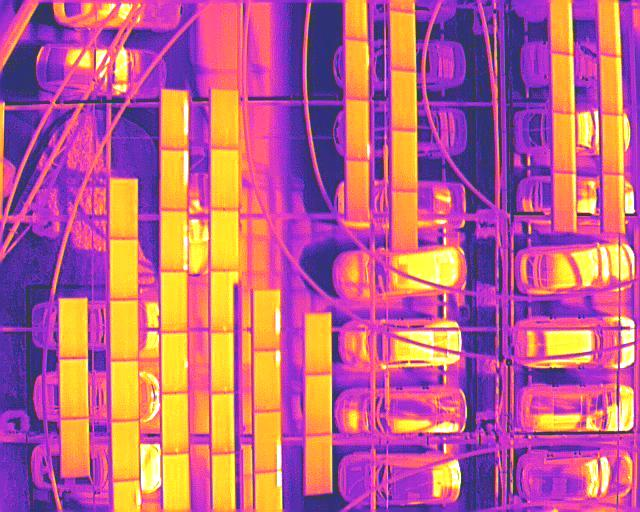Cell: (161, 333, 189, 392)
No-Anomaly: (212, 145, 240, 211), (59, 359, 89, 419), (60, 417, 90, 477), (111, 360, 140, 420), (110, 177, 138, 239), (305, 371, 332, 435), (111, 239, 139, 300), (59, 298, 87, 359), (305, 434, 333, 495), (393, 125, 418, 193), (160, 271, 188, 331), (212, 207, 238, 271), (305, 314, 333, 373), (111, 300, 138, 361), (212, 88, 239, 148), (390, 9, 417, 69), (163, 393, 189, 454), (114, 420, 140, 480), (210, 270, 235, 332), (393, 189, 417, 253), (210, 333, 235, 394), (211, 453, 236, 512), (553, 170, 576, 234), (552, 50, 575, 113), (599, 53, 622, 116), (394, 68, 417, 130), (346, 162, 370, 221), (211, 393, 234, 454), (347, 38, 369, 101), (554, 110, 575, 174), (347, 99, 369, 160), (602, 116, 623, 178), (552, 0, 574, 57), (599, 0, 620, 57), (604, 175, 624, 232)
Unclassified: (252, 349, 281, 411), (162, 90, 190, 150), (253, 411, 281, 471), (161, 147, 188, 209), (253, 290, 281, 349), (162, 211, 188, 271)
